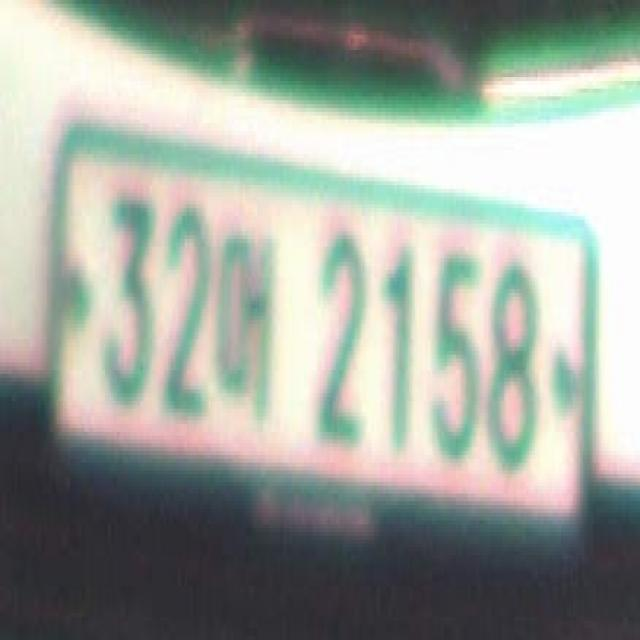1: (384, 247, 416, 459)
2: (316, 228, 365, 448), (164, 200, 209, 420)
3: (101, 178, 156, 412)
5: (431, 247, 481, 462)
8: (487, 254, 536, 482)
license_plate: (52, 146, 589, 536)
meo: (214, 228, 274, 417)
